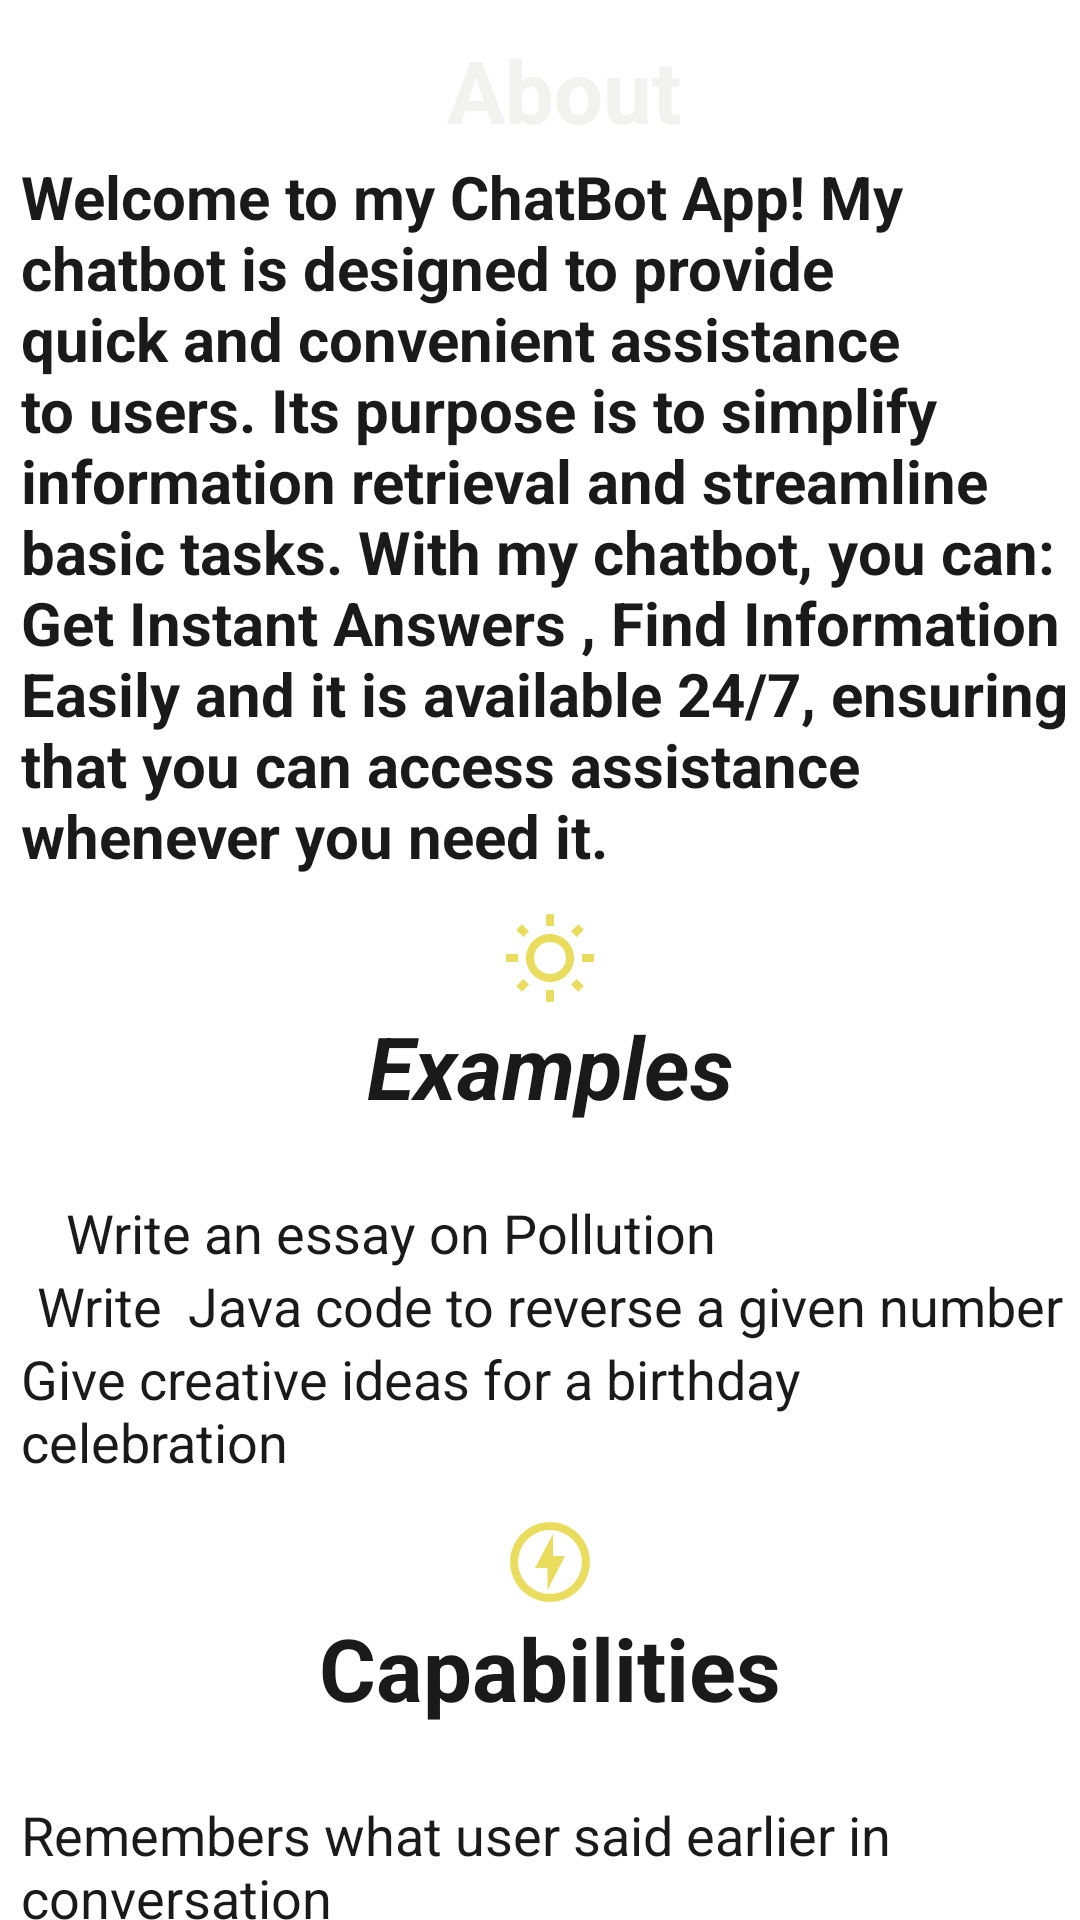

Icons on this 1080x1920 Android screen, each with the point to tap as (x,y):
offline bolt: (550,1562)
